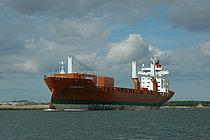Ship: (41, 52, 180, 114)
